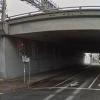Bridge: (6, 6, 97, 62)
